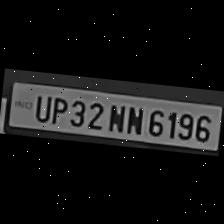1: (161, 106, 180, 138)
2: (83, 97, 105, 129)
3: (64, 94, 86, 125)
6: (142, 105, 167, 136), (191, 110, 213, 141)
9: (173, 108, 195, 139)
N: (122, 102, 145, 134), (104, 99, 125, 132)
P: (46, 92, 68, 124)
U: (30, 92, 52, 122)
